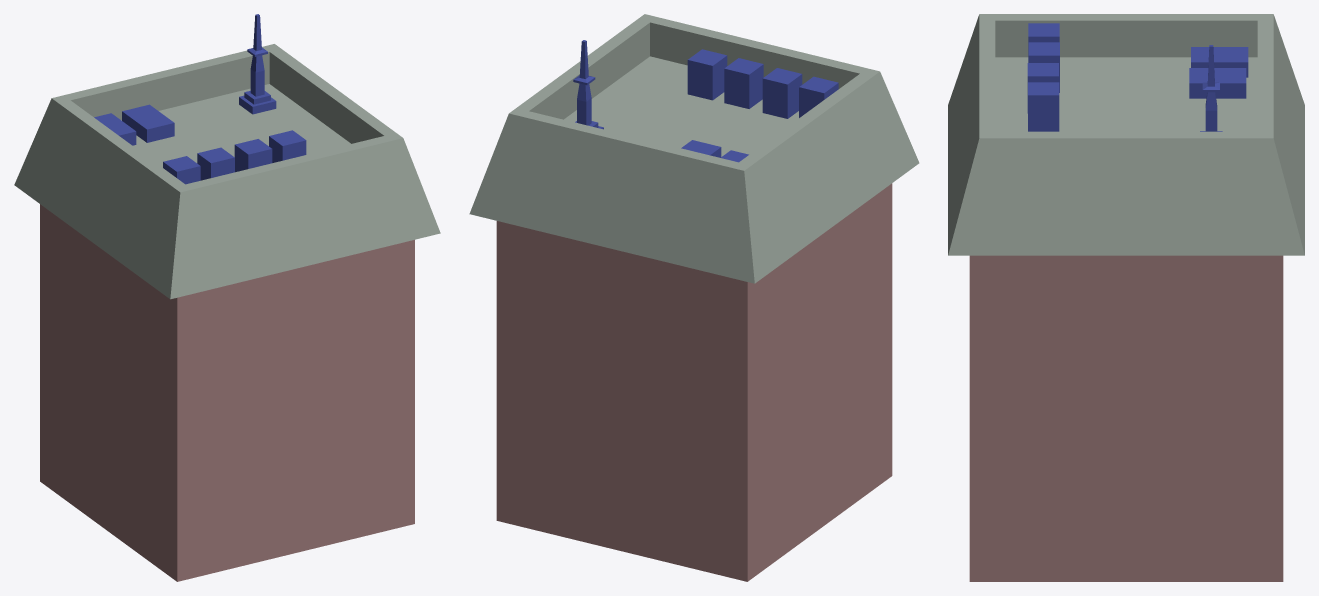
File: Building_A2.fbx
3 renders of one model, left to right at view 1: azimuth 30°, elevation 25°; view 2: azimuth 150°, elevation 25°; view 3: azimuth 270°, elevation 25°, orthographic. The views are drawn at different scales.
Visible parts, largest first — view 1: Edificio1_B_Objects; view 2: Edificio1_B_Objects; view 3: Edificio1_B_Objects.
Boxes of the visible parts, x1,y1,x2,y2 form: Edificio1_B_Objects: (14, 14, 440, 581); Edificio1_B_Objects: (469, 14, 919, 581); Edificio1_B_Objects: (948, 14, 1304, 581).
Size of the model in its own units: 6.85 by 10.75 by 6.85.
